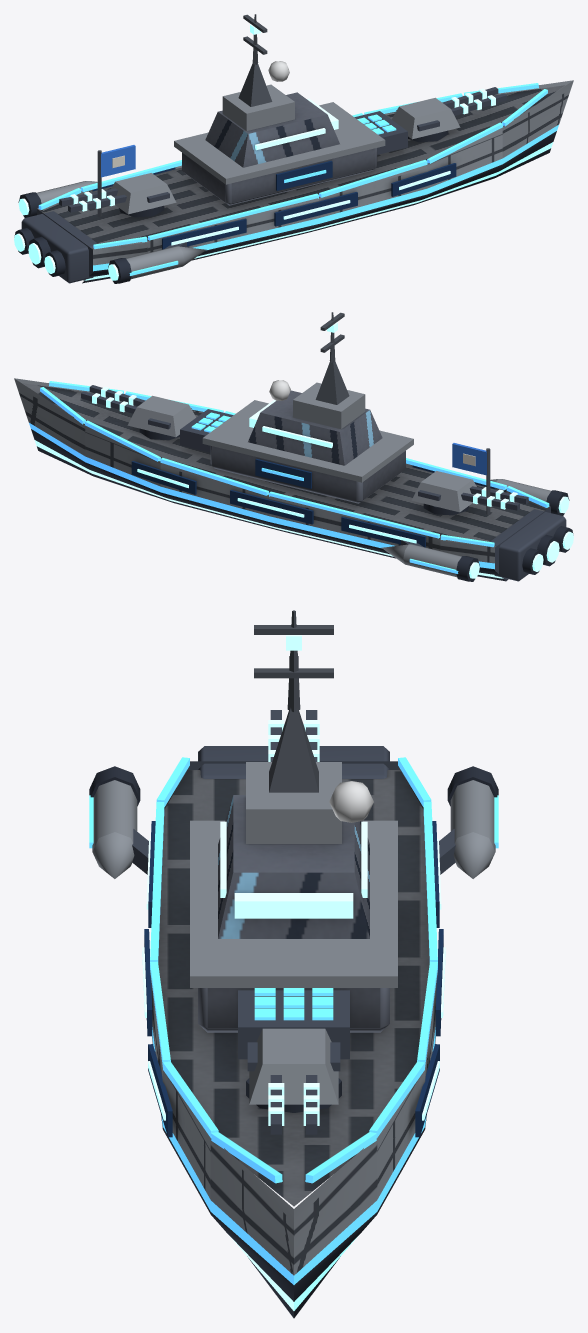
File: cruiser_scifi_blue.glb
3 renders of one model, top to bottom at view 1: azimuth 30°, elevation 25°; view 2: azimuth 150°, elevation 25°; view 3: azimuth 270°, elevation 25°, orthographic. The views are drawn at different scales.
Parts seen in each view (by area): view 1: cruiser_scifi_blue; view 2: cruiser_scifi_blue; view 3: cruiser_scifi_blue.
Part boxes in pixels (left/top/right/bottom): cruiser_scifi_blue: left=14, top=14, right=573, bottom=283; cruiser_scifi_blue: left=14, top=312, right=573, bottom=581; cruiser_scifi_blue: left=89, top=610, right=498, bottom=1318.
Size of the model in its own units: 0.78 by 0.29 by 0.256.
3 materials, 1 textured.
